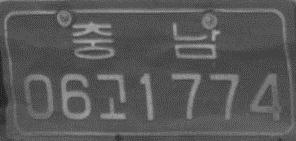0: (23, 73, 54, 120)
1: (132, 72, 162, 121)
4: (248, 73, 282, 121)
6: (59, 73, 91, 121)
7: (209, 72, 240, 121), (171, 73, 200, 120)
고: (96, 72, 127, 120)
충남_D: (71, 20, 220, 60)
